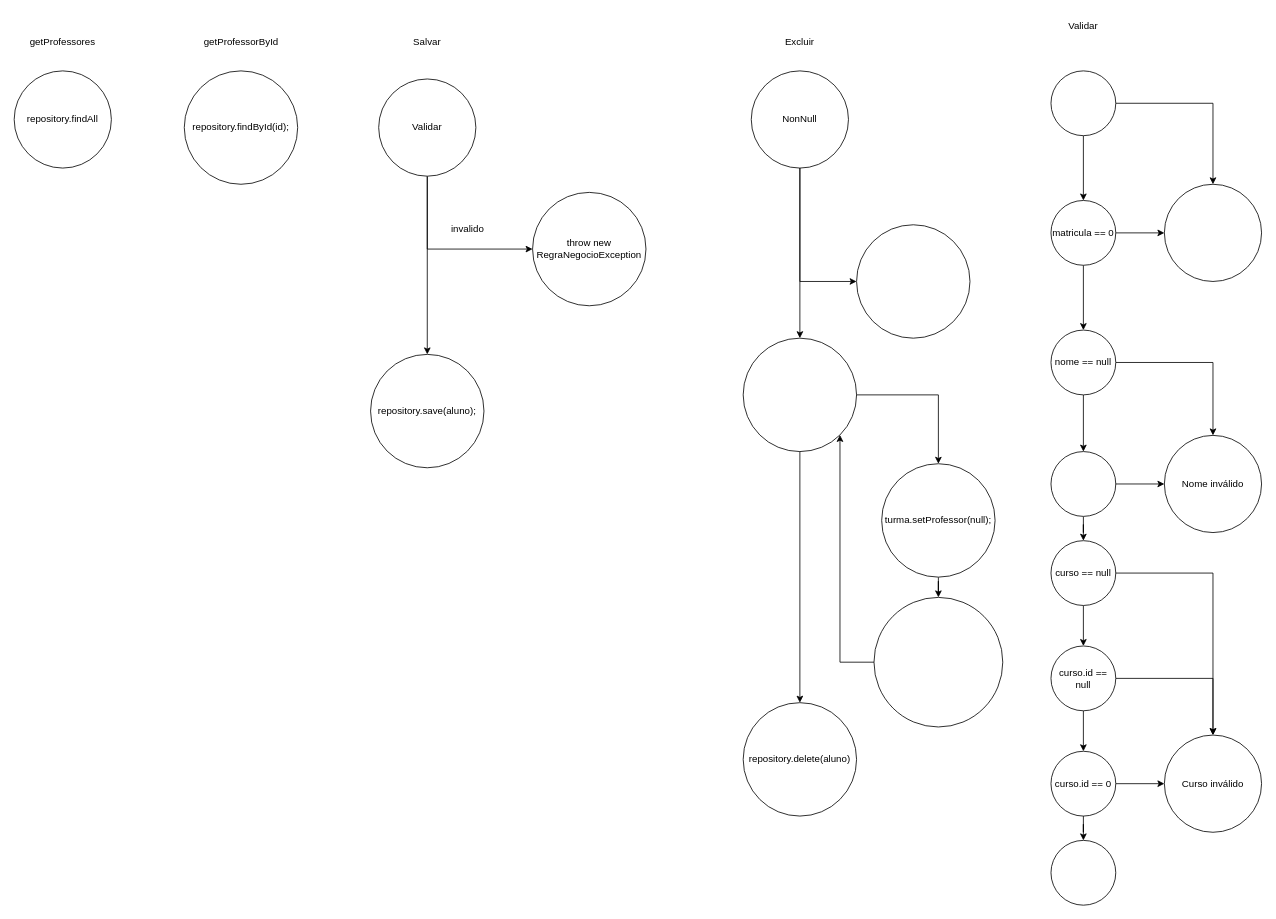
Some shapes in this 1276 by 919 pixel diagram are drawn without their labels. Here are the shapes that lost their labels. From the top down, the box of each, then its label:
(1050, 70, 1116, 136): matricula == null
(1164, 183, 1262, 281): Matrícula inválida
(856, 224, 970, 338): NullPointerException
(742, 337, 857, 452): for (Turma turma : professor.getTurmas())
(1050, 451, 1116, 516): nome == ""
(873, 597, 1003, 727): turmaService.salvar(turma);
(1050, 840, 1116, 905): Professor valido
